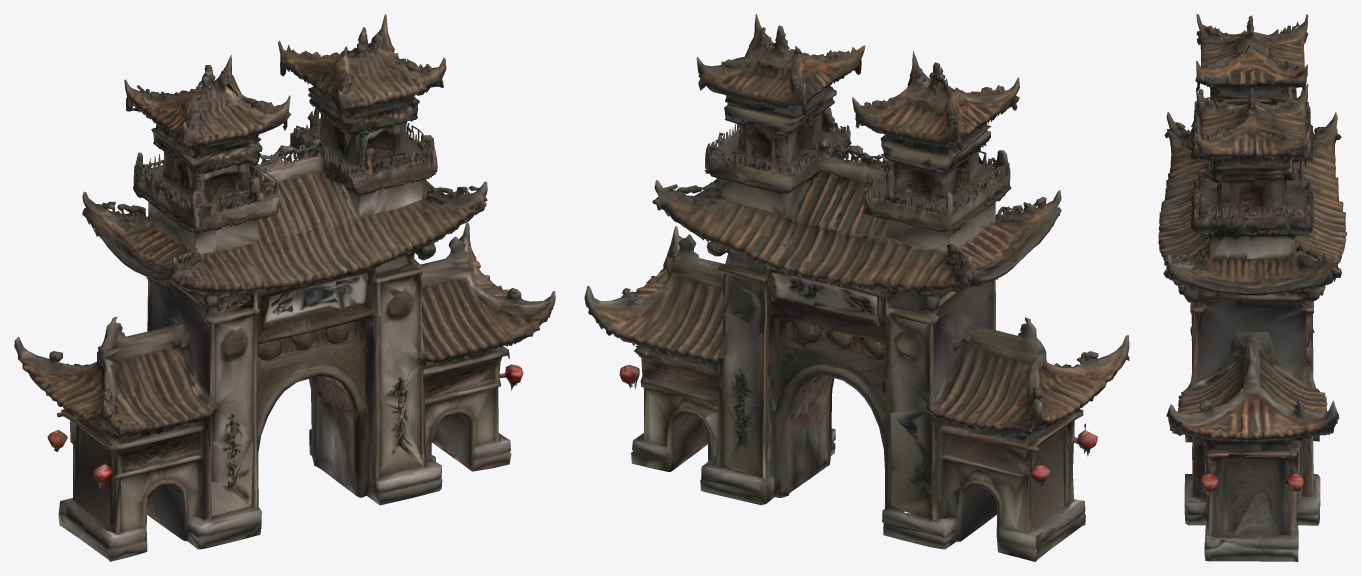
The model's file is Dark_oriental_gateway.glb.
3 views of the same model, side by side, from view 1: azimuth 30°, elevation 25°; view 2: azimuth 150°, elevation 25°; view 3: azimuth 270°, elevation 25° (orthographic). The views are drawn at different scales.
Parts seen in each view (by area): view 1: Dark_oriental_gateway; view 2: Dark_oriental_gateway; view 3: Dark_oriental_gateway.
Boxes of the visible parts, x1,y1,x2,y2 form: Dark_oriental_gateway: (14, 14, 555, 561); Dark_oriental_gateway: (584, 14, 1129, 561); Dark_oriental_gateway: (1158, 14, 1347, 561).
Size of the model in its own units: 2 by 1.88 by 0.7695.
1 material, 1 textured.
